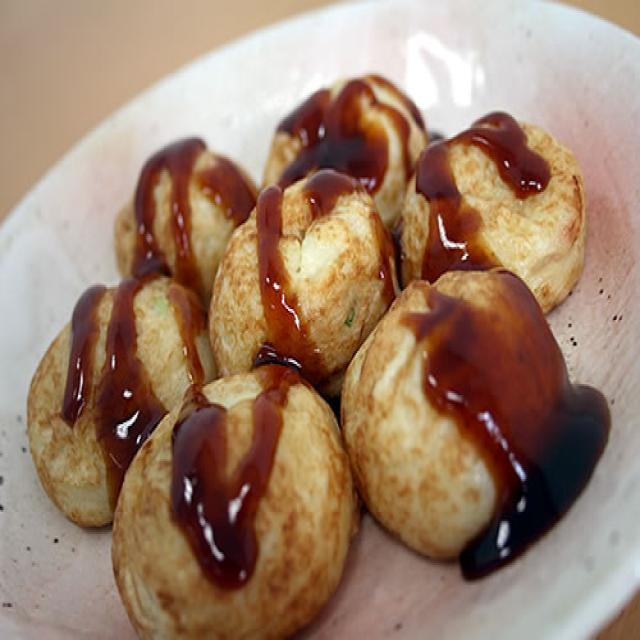炸货点心: (0, 45, 640, 640)
